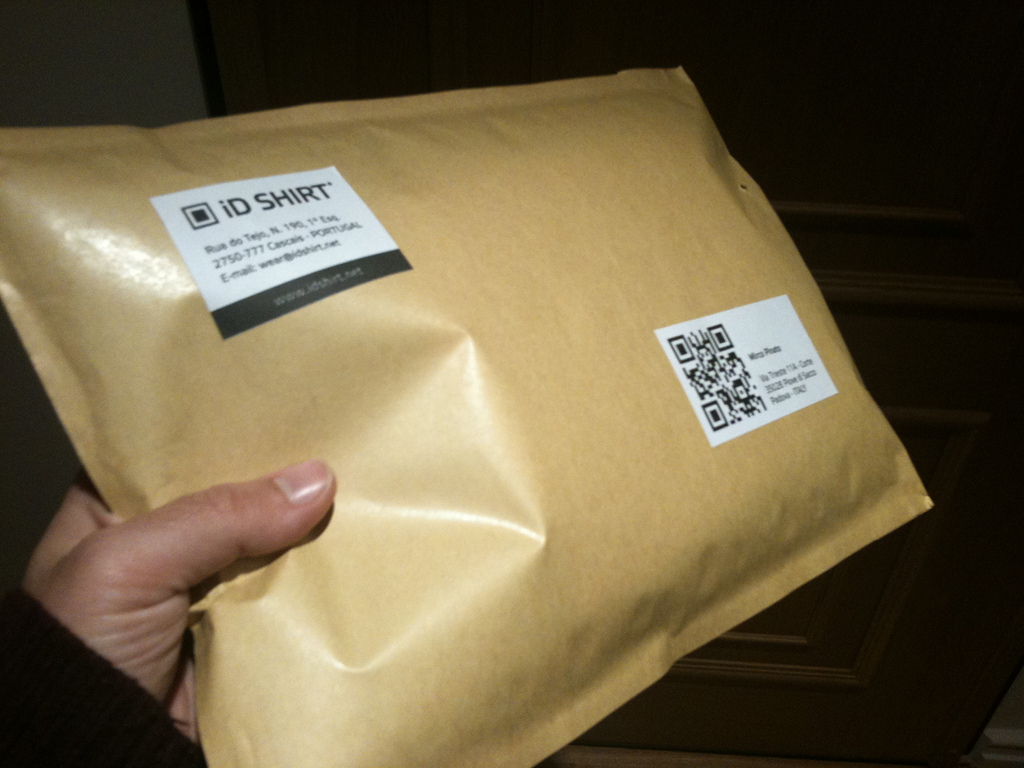QR-CODE: (667, 323, 768, 431)
